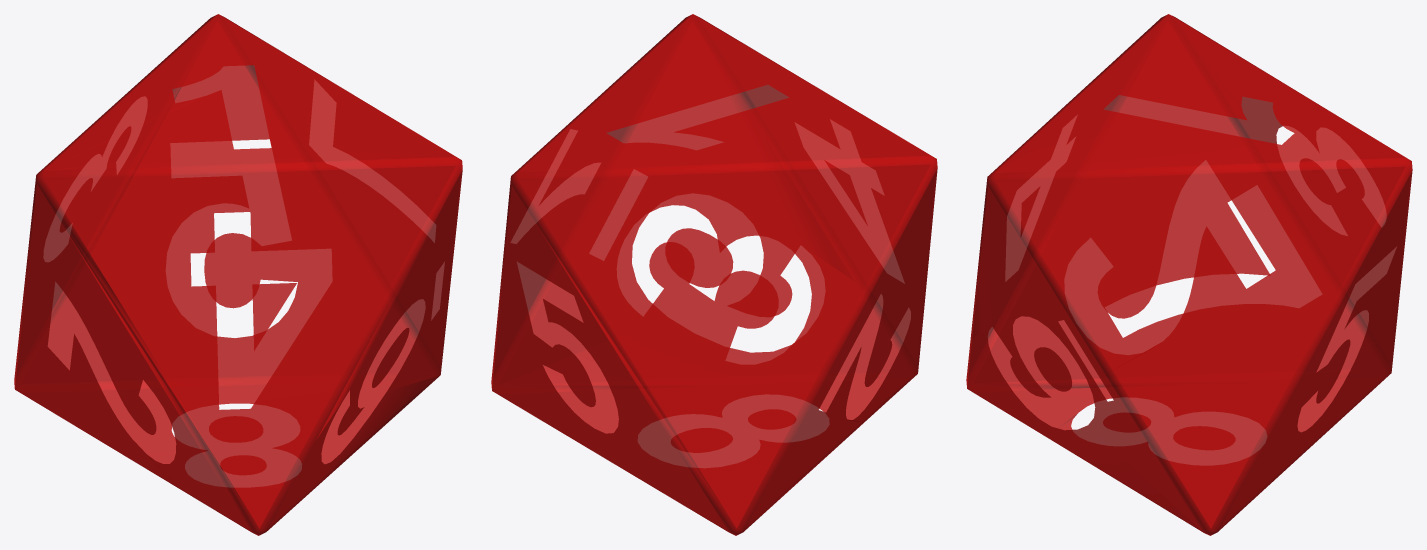
Rendered from d8_lowpoly.fbx.
3 views of the same model, side by side, from view 1: azimuth 30°, elevation 25°; view 2: azimuth 150°, elevation 25°; view 3: azimuth 270°, elevation 25° (orthographic).
Visible parts, largest first — view 1: 8_Sided; view 2: 8_Sided; view 3: 8_Sided.
Part boxes in pixels (bbox=[...]): 8_Sided: bbox=[14, 14, 462, 535]; 8_Sided: bbox=[491, 14, 937, 535]; 8_Sided: bbox=[966, 14, 1412, 535].
Bounding box in the file's own units: 9.79 × 7.12 × 8.94.
